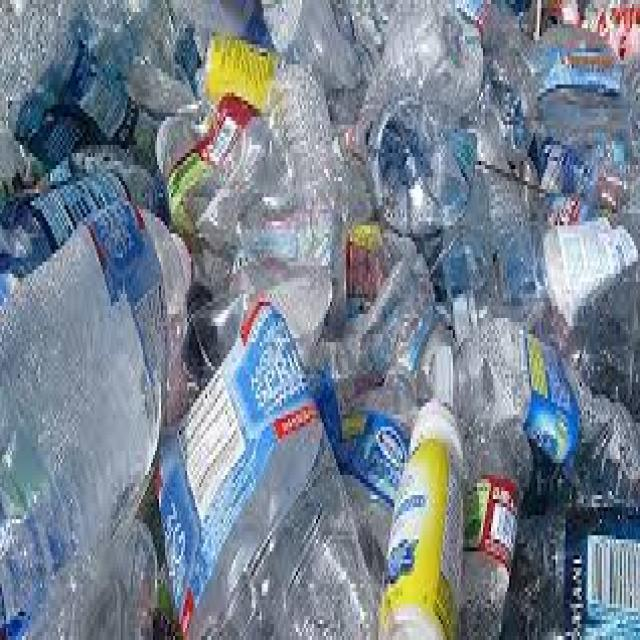plastic_bottle: (1, 119, 219, 634), (373, 355, 487, 640)
